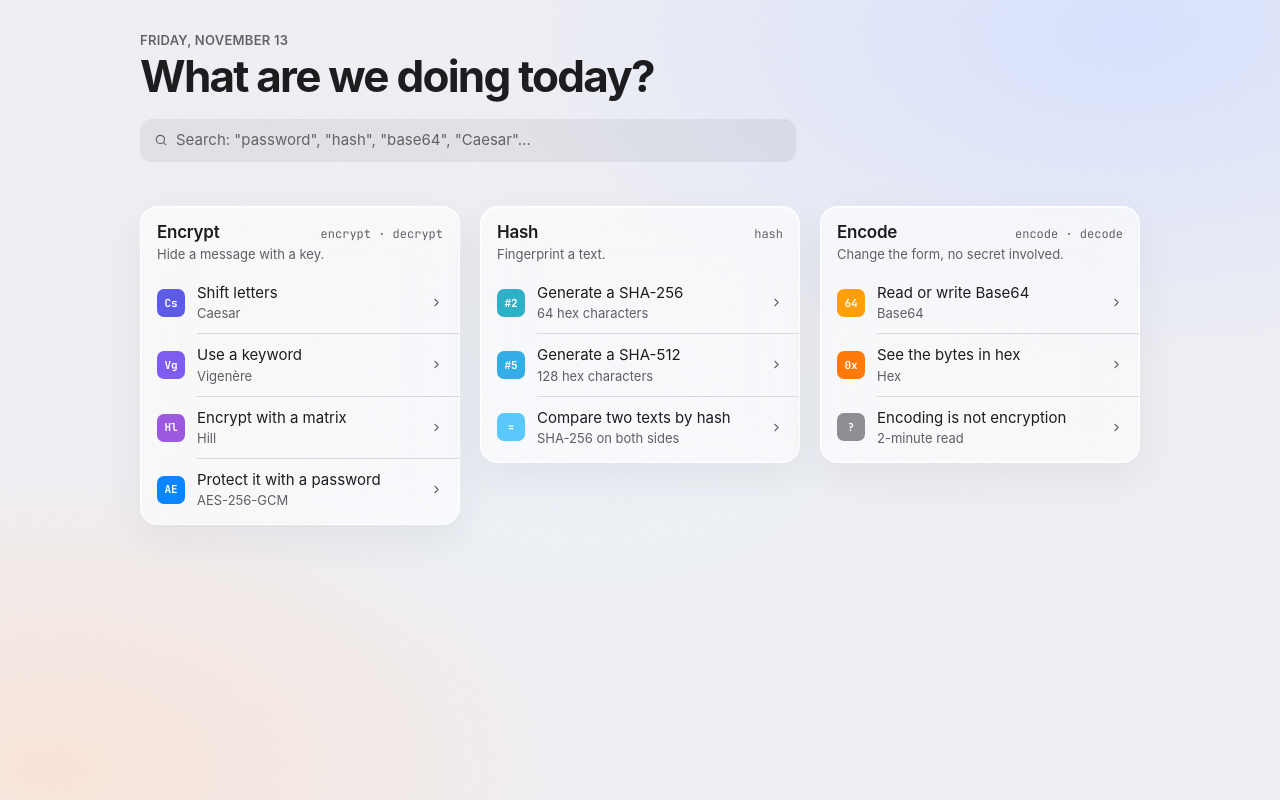
Test: Home › counts a single option in the singular
Expected: the link "Cs Shift letters Caesar" is shown, x1=141 y1=272 x2=459 y2=334
Type "vigenere" into the search field labelled "Search: \"password\", \"hash\", \"base64\", \"Caesar\"…". click: [479, 140]
box: x1=176 y1=129 x2=782 y2=152
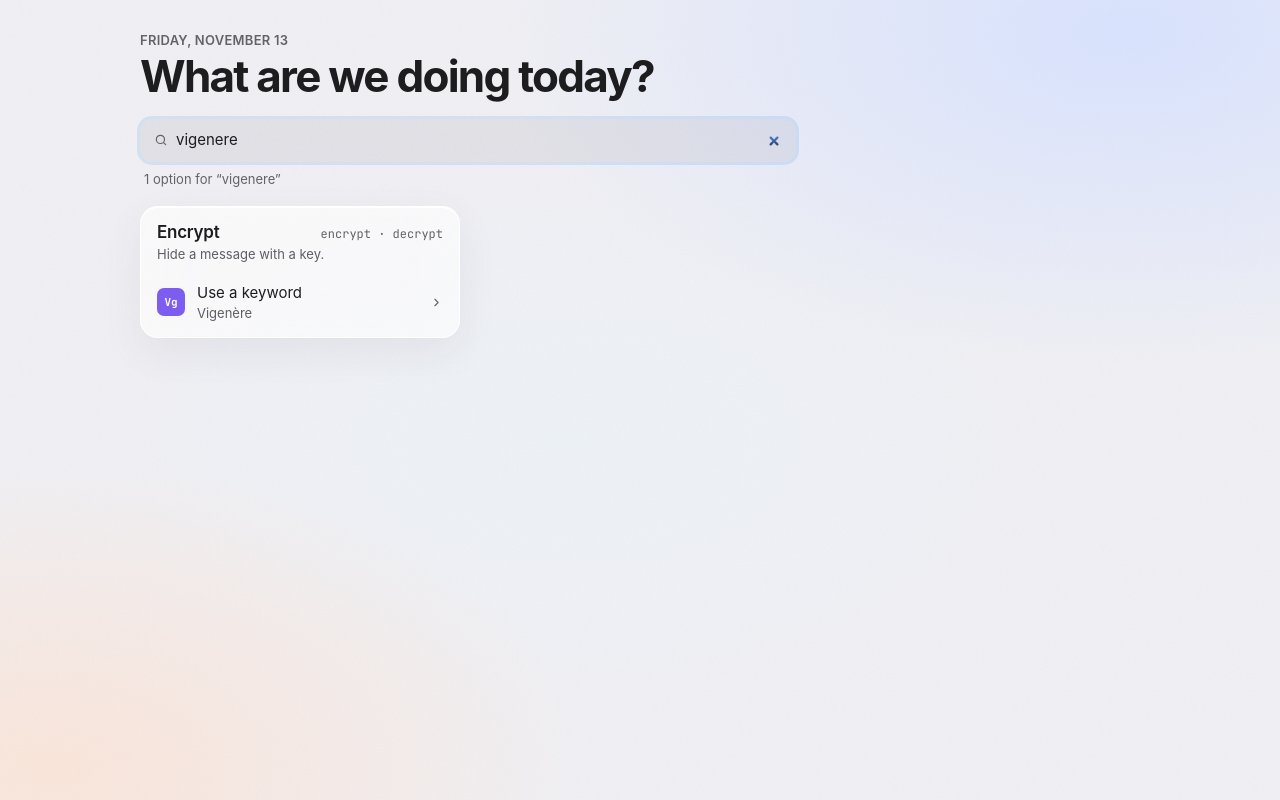
Expected: the text "1 option for “vigenere”" is shown, x1=144 y1=171 x2=281 y2=187
